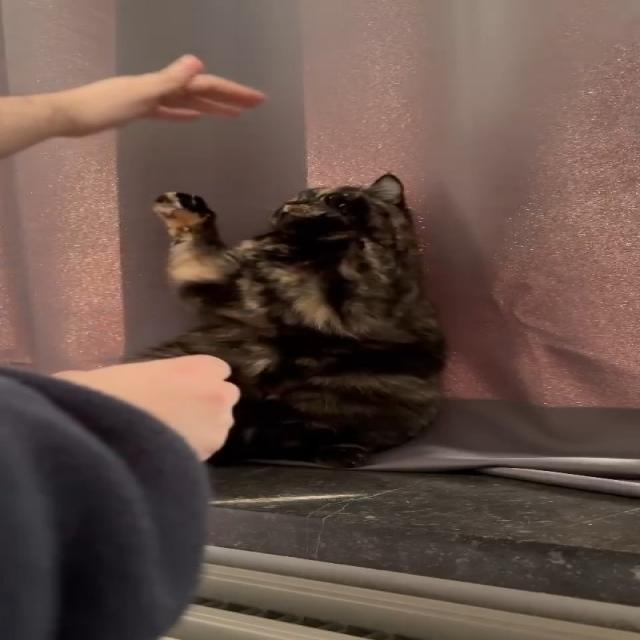authorized: (120, 171, 448, 469)
